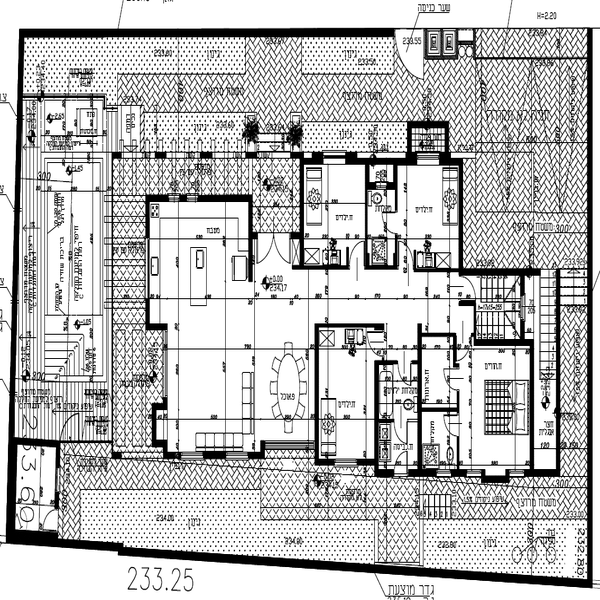door: (395, 27, 427, 82), (255, 230, 296, 263), (362, 326, 392, 359), (393, 446, 417, 479), (439, 366, 464, 396), (394, 358, 416, 386), (345, 240, 366, 269), (396, 242, 415, 270), (393, 414, 412, 442), (445, 412, 462, 437)
room: (141, 319, 320, 457), (302, 156, 468, 275), (417, 328, 533, 478), (144, 191, 257, 331), (314, 323, 380, 470)
wall: (585, 26, 597, 590), (12, 24, 22, 545), (17, 27, 390, 38), (415, 324, 426, 467), (556, 270, 563, 472), (528, 350, 538, 473), (457, 164, 467, 274), (463, 266, 540, 279), (148, 195, 256, 203), (300, 154, 307, 269), (318, 320, 388, 331), (375, 363, 382, 472), (481, 337, 537, 349), (363, 169, 369, 273), (417, 404, 465, 414), (247, 203, 253, 277), (315, 322, 318, 468), (306, 262, 347, 270), (142, 321, 167, 334), (420, 330, 457, 338), (151, 401, 157, 444), (365, 160, 367, 276), (203, 451, 225, 461), (248, 452, 260, 464)
